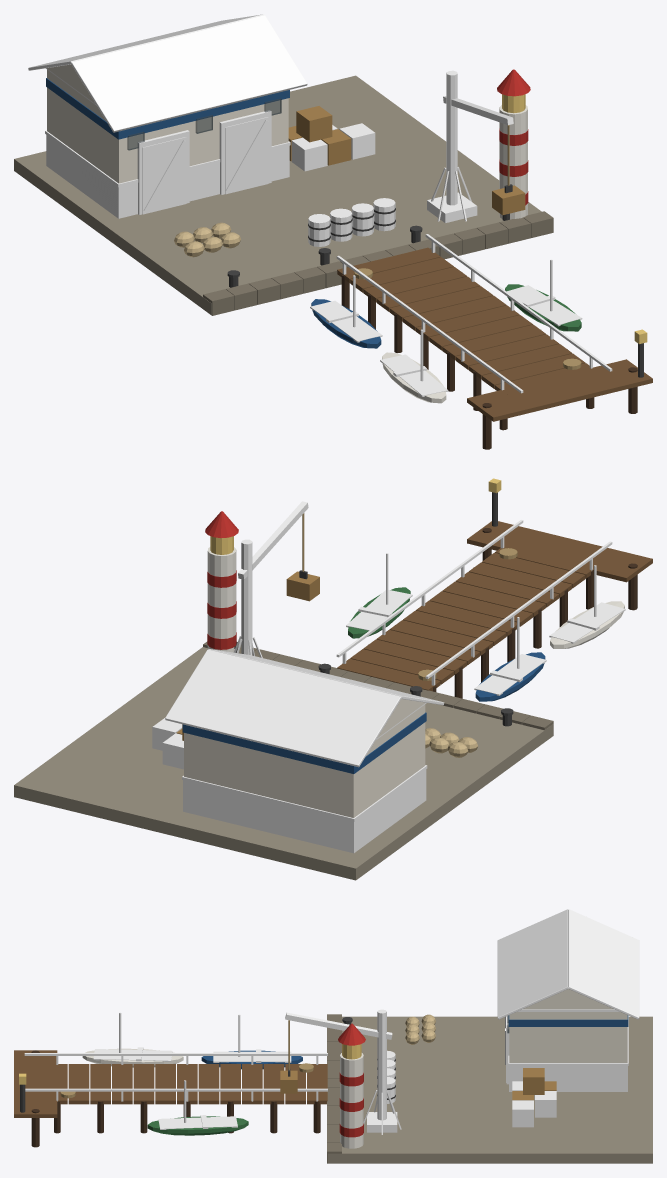
The model's file is liman.glb.
3 views of the same model, one above another, from view 1: azimuth 30°, elevation 25°; view 2: azimuth 150°, elevation 25°; view 3: azimuth 270°, elevation 25° (orthographic). The views are drawn at different scales.
Parts seen in each view (by area): view 1: Alin; view 2: Alin; view 3: Alin.
Boxes of the visible parts, <box> form: Alin: <box>14,14,652,449</box>; Alin: <box>14,478,652,880</box>; Alin: <box>14,909,652,1163</box>.
Bounding box in the file's own units: 0.5085 × 0.261 × 1.
